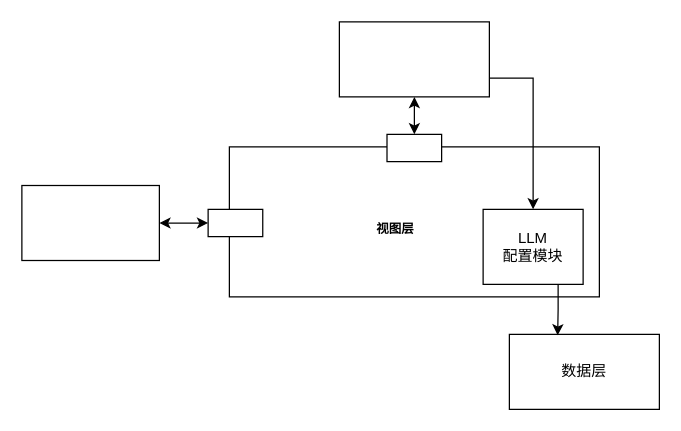
Some shapes in this 681 by 431 pixel diagram are drawn without their labels. Here are the shapes that lost their labels. From the top down, the centre of each, then its label:
[413,59]: 用户
[90,222]: 应用层
